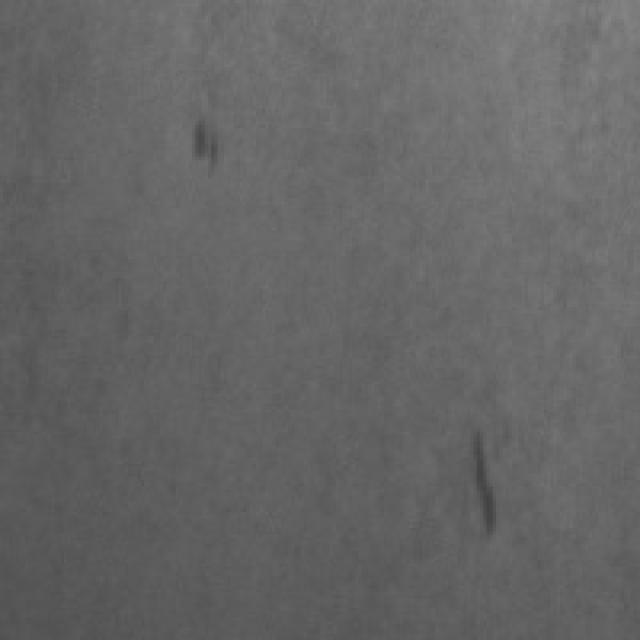inclusion: (451, 413, 506, 541), (176, 106, 221, 176)
